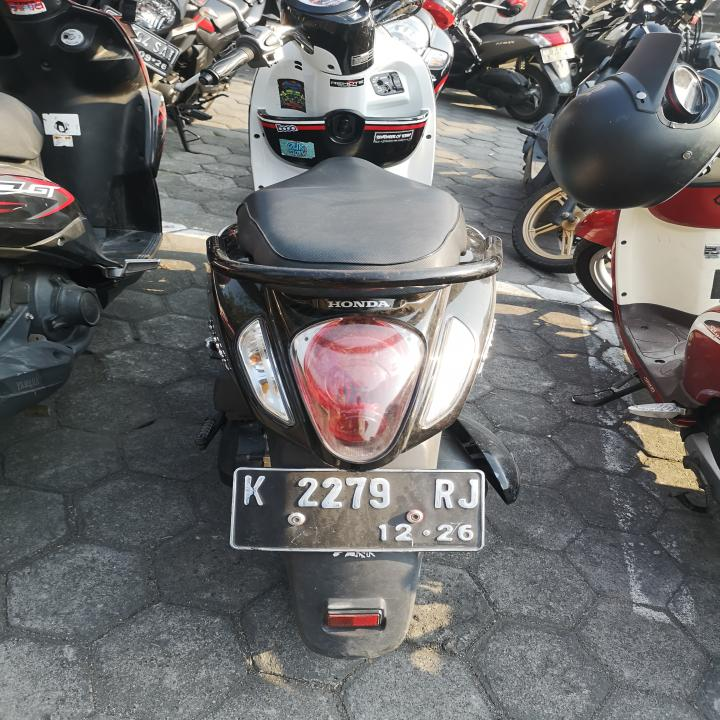plate: (228, 466, 486, 557)
